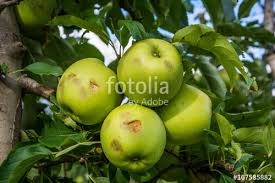apple: (123, 41, 181, 110), (160, 85, 211, 142)
damaged_apple: (100, 102, 166, 171), (56, 59, 119, 123)
